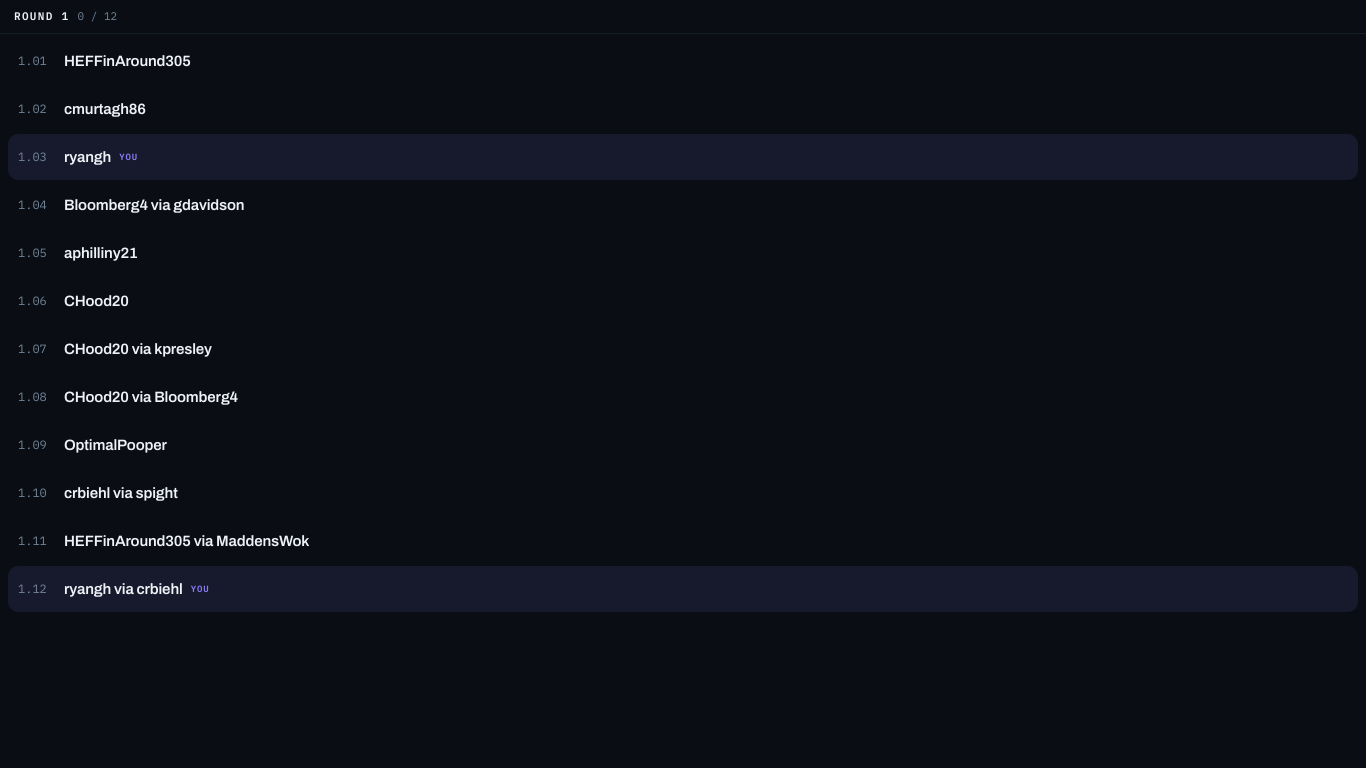
PickFeed manual pick selection › offers only untaken ranked players in the pick modal
The width and height of the screenshot is (1366, 768).
Click the button with aria-label "pick 1,": {"x": 127, "y": 60} [8,38,1358,84]
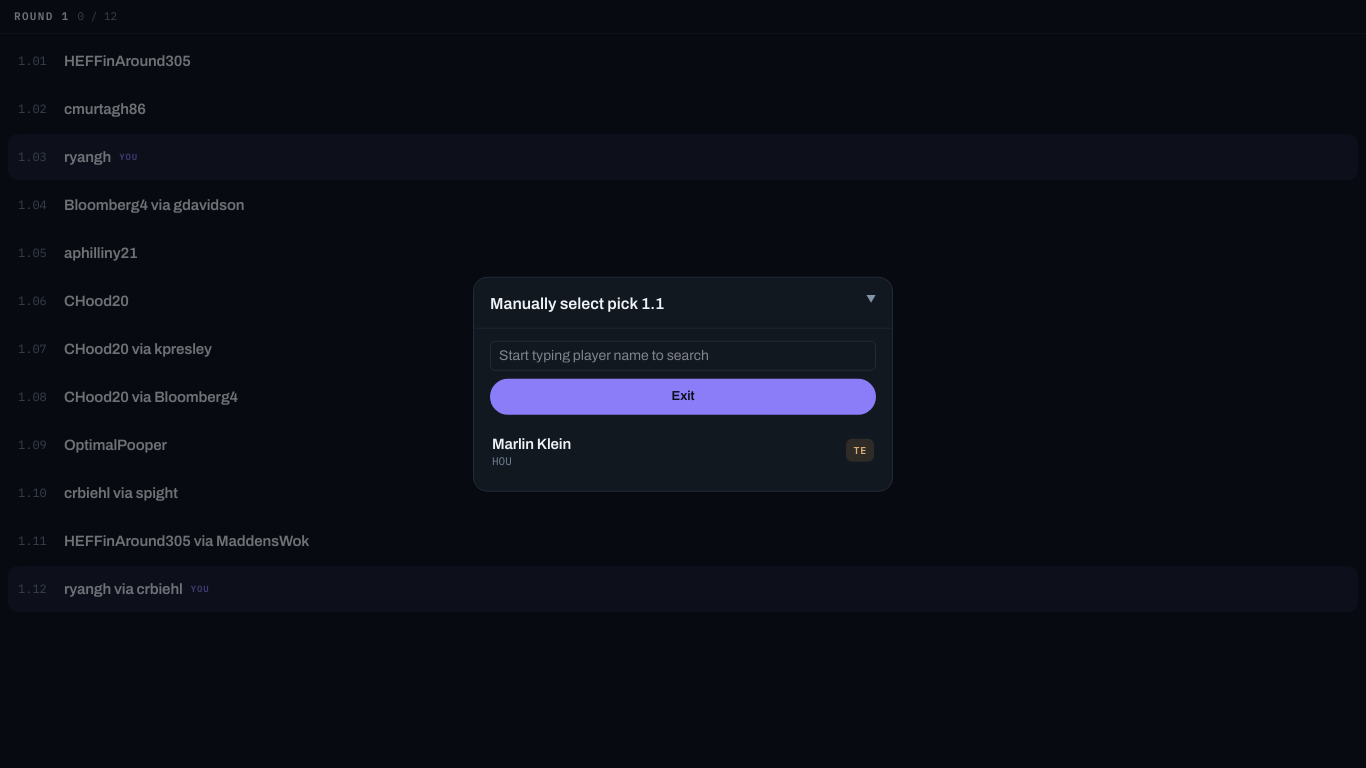
Expected: the text "Marlin Klein" is shown, [492,433,571,453]
